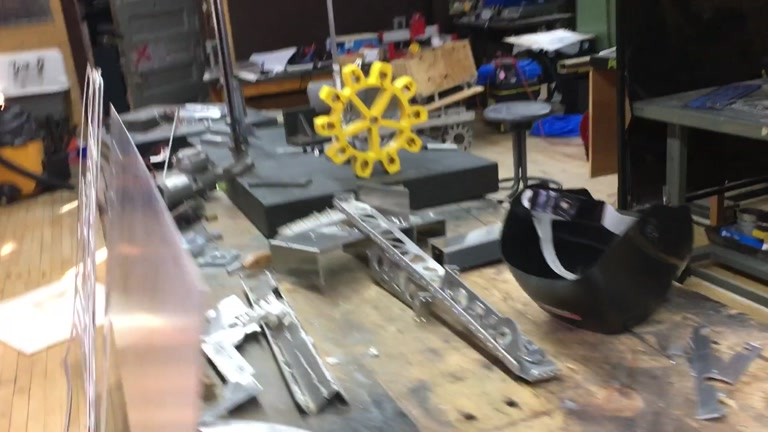gear: (313, 63, 429, 179)
